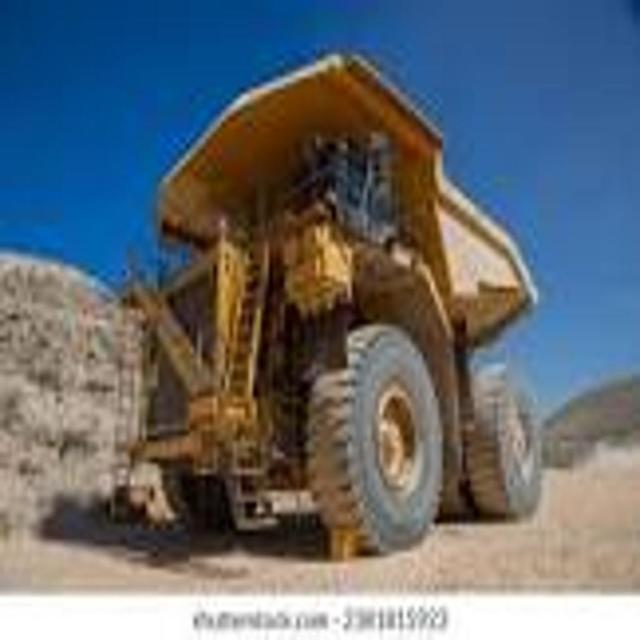dump_truck: (111, 61, 549, 549)
